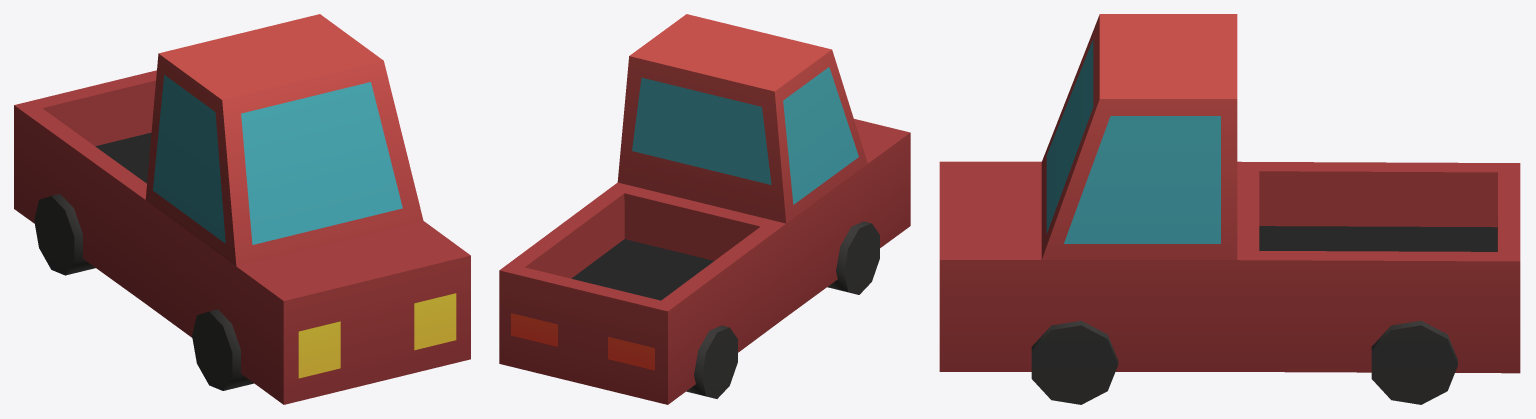
File: Car_1_2.fbx
3 views of the same model, side by side, from view 1: azimuth 30°, elevation 25°; view 2: azimuth 150°, elevation 25°; view 3: azimuth 270°, elevation 25° (orthographic). The views are drawn at different scales.
Visible parts, largest first — view 1: Car_1_2; view 2: Car_1_2; view 3: Car_1_2.
Boxes of the visible parts, x1=… form: Car_1_2: x1=14, y1=14, x2=470, y2=404; Car_1_2: x1=499, y1=14, x2=910, y2=404; Car_1_2: x1=939, y1=14, x2=1520, y2=404.
Bounding box in the file's own units: 211 × 270 × 483.
